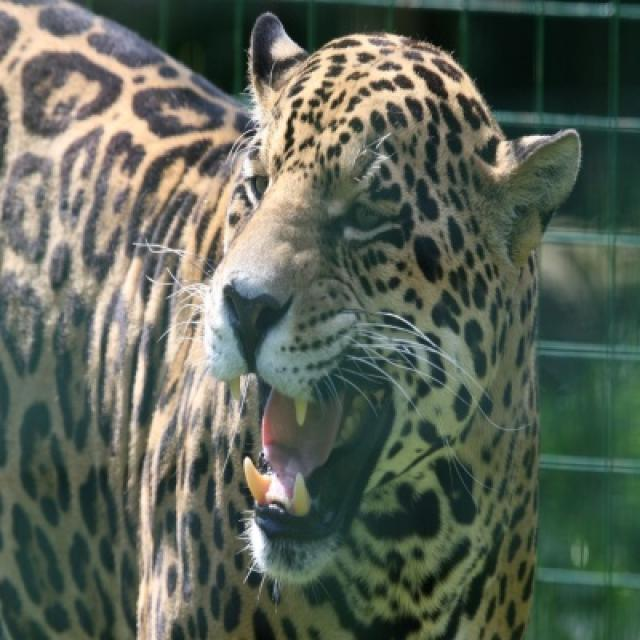not_pig: (0, 0, 582, 638)
